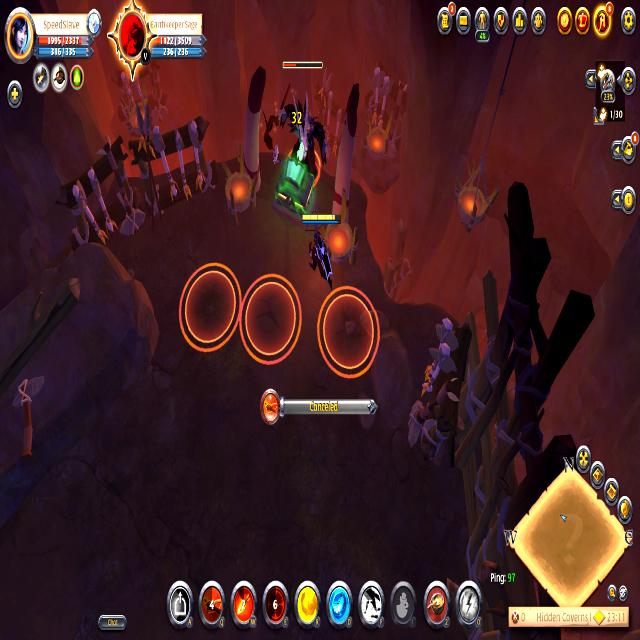ore: (264, 58, 330, 194)
red: (302, 210, 344, 290)
silver: (317, 286, 380, 377), (240, 274, 302, 364), (179, 263, 242, 351)
